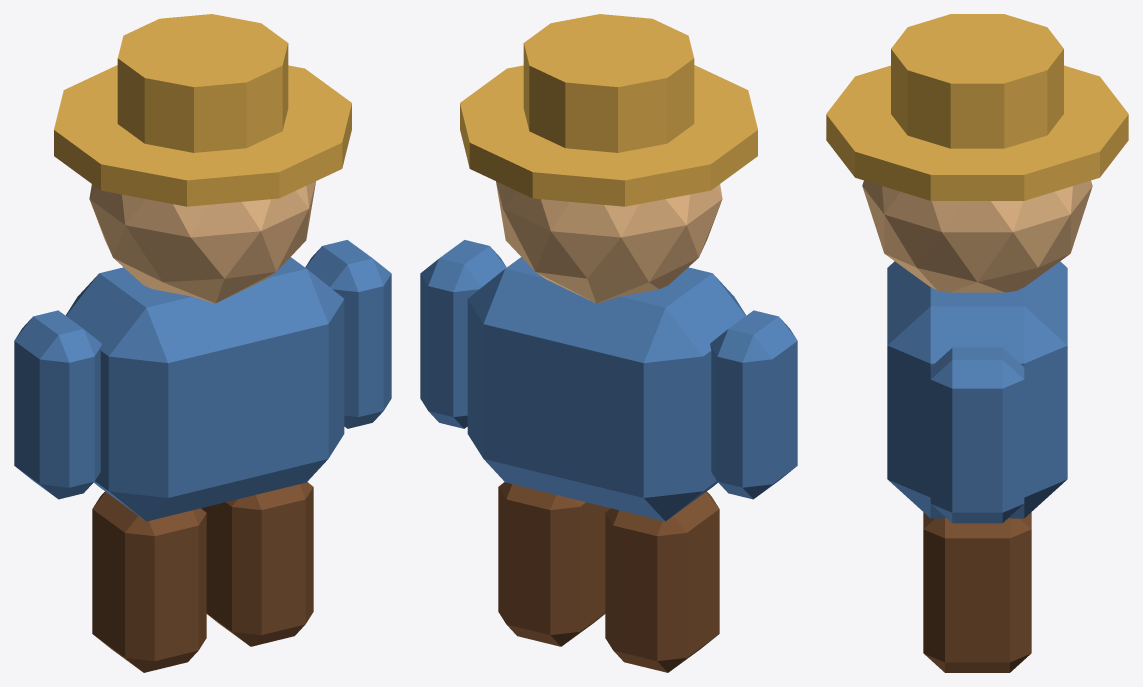
File: worker.fbx
3 views of the same model, side by side, from view 1: azimuth 30°, elevation 25°; view 2: azimuth 150°, elevation 25°; view 3: azimuth 270°, elevation 25° (orthographic).
Visible parts, largest first — view 1: worker; view 2: worker; view 3: worker.
Boxes of the visible parts, x1,y1,x2,y2 form: worker: (14, 14, 391, 672); worker: (420, 14, 797, 672); worker: (826, 14, 1128, 672).
Bounding box in the file's own units: 0.112 × 0.18 × 0.084.
